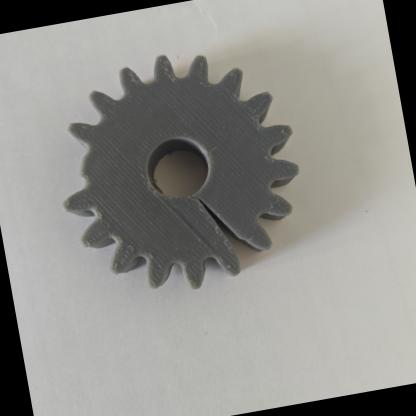defect: (174, 167, 290, 294)
gear: (19, 17, 386, 354), (33, 112, 125, 216)
